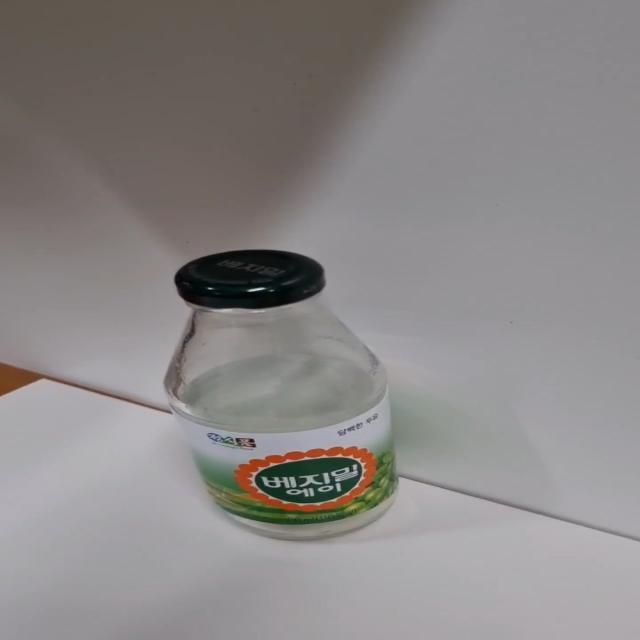Glass: (157, 240, 404, 547)
